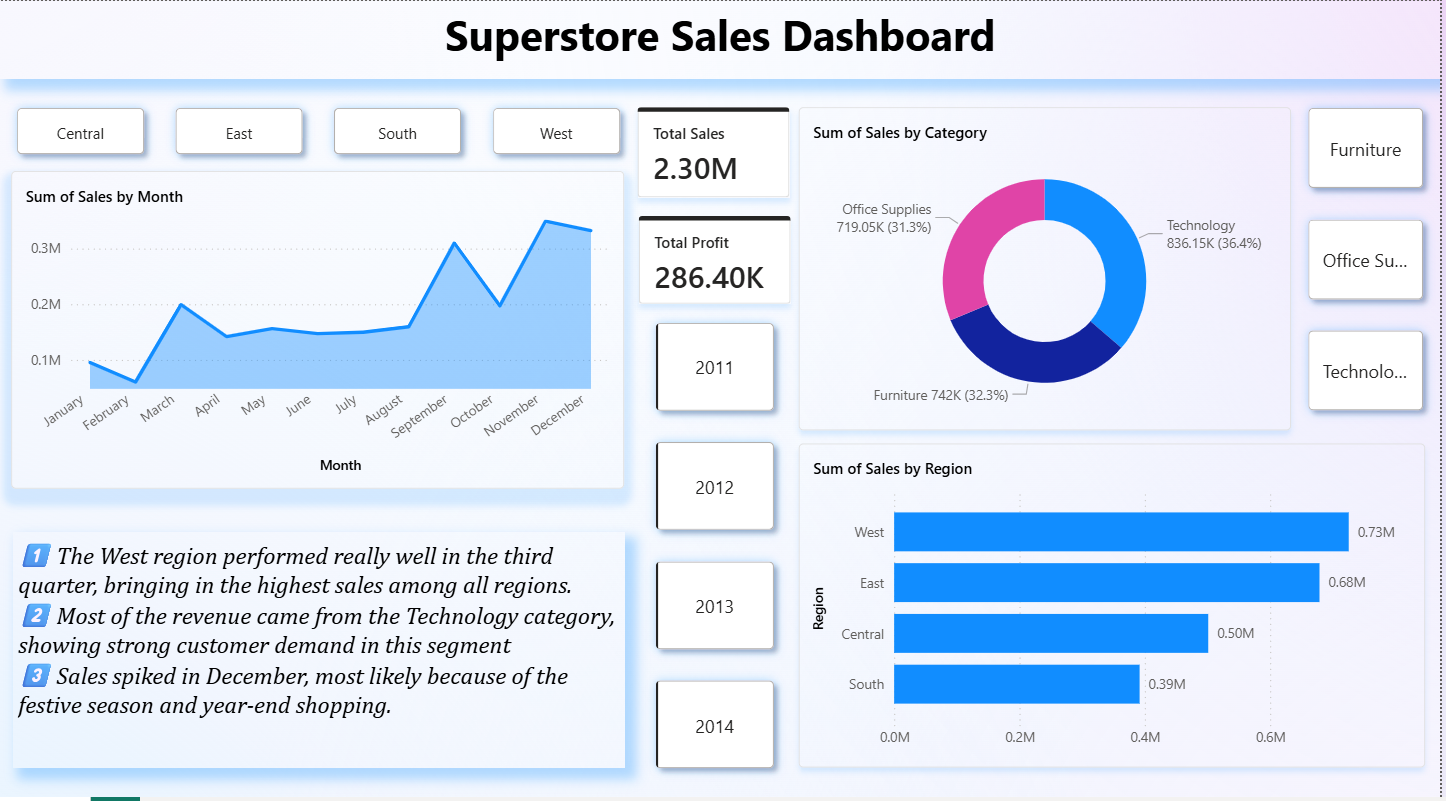

This screenshot's page, from the dashboard's own definition file:
{"tool":"powerbi","page":{"name":"Page 1","canvas":[1280,720],"ordinal":0},"visuals":[{"type":"donutChart","fields":{"Y":["Sum(Superstore.Sales)"],"Category":["Superstore.Category"]},"box":[710,93.3,416.7,278.9],"z":1000},{"type":"barChart","fields":{"Category":["Superstore.Region"],"Y":["Sum(Superstore.Sales)"]},"box":[710,383.3,556.7,324.4],"z":1500},{"type":"advancedSlicerVisual","fields":{"Values":["Superstore.Order Date.Variation.Date Hierarchy.Year"]},"box":[567.8,317.8,135.6,390],"z":2000},{"type":"lineChart","fields":{"Category":["Superstore.Order Date.Variation.Date Hierarchy.Month"],"Y":["Sum(Superstore.Sales)"]},"box":[5.6,181.1,555.6,255.6],"z":3000},{"type":"advancedSlicerVisual","fields":{"Values":["Superstore.Region"]},"box":[5.6,93.3,555.6,78.9],"z":4000},{"type":"textbox","box":[0,0,1280.5,69.4],"z":5000},{"type":"cardVisual","fields":{"Data":["Sum(Superstore.Profit)"]},"box":[567.8,207.8,135.6,101.1],"z":6000},{"type":"textbox","box":[5.6,446.7,555.6,261.1],"z":7000},{"type":"cardVisual","fields":{"Data":["Sum(Superstore.Sales)"]},"box":[567.8,93.3,135.6,104.4],"z":8000},{"type":"advancedSlicerVisual","fields":{"Values":["Superstore.Category"]},"box":[1134.4,93.3,132.2,278.9],"z":9000}]}

Visuals, with their boxes in screenshot pixels (x1, y1, x2, y2), scaled from the page's 1280x720 canvas onto the 1446x801 screenshot:
donutChart - Sum(Superstore.Sales) x Superstore.Category: pyautogui.locateOnScreen(802, 104, 1273, 414)
barChart - Superstore.Region x Sum(Superstore.Sales): pyautogui.locateOnScreen(802, 426, 1431, 787)
advancedSlicerVisual - Superstore.Order Date.Variation.Date Hierarchy.Year: pyautogui.locateOnScreen(641, 354, 795, 787)
lineChart - Superstore.Order Date.Variation.Date Hierarchy.Month x Sum(Superstore.Sales): pyautogui.locateOnScreen(6, 201, 634, 486)
advancedSlicerVisual - Superstore.Region: pyautogui.locateOnScreen(6, 104, 634, 192)
textbox: pyautogui.locateOnScreen(0, 0, 1445, 77)
cardVisual - Sum(Superstore.Profit): pyautogui.locateOnScreen(641, 231, 795, 344)
textbox: pyautogui.locateOnScreen(6, 497, 634, 787)
cardVisual - Sum(Superstore.Sales): pyautogui.locateOnScreen(641, 104, 795, 220)
advancedSlicerVisual - Superstore.Category: pyautogui.locateOnScreen(1282, 104, 1431, 414)
